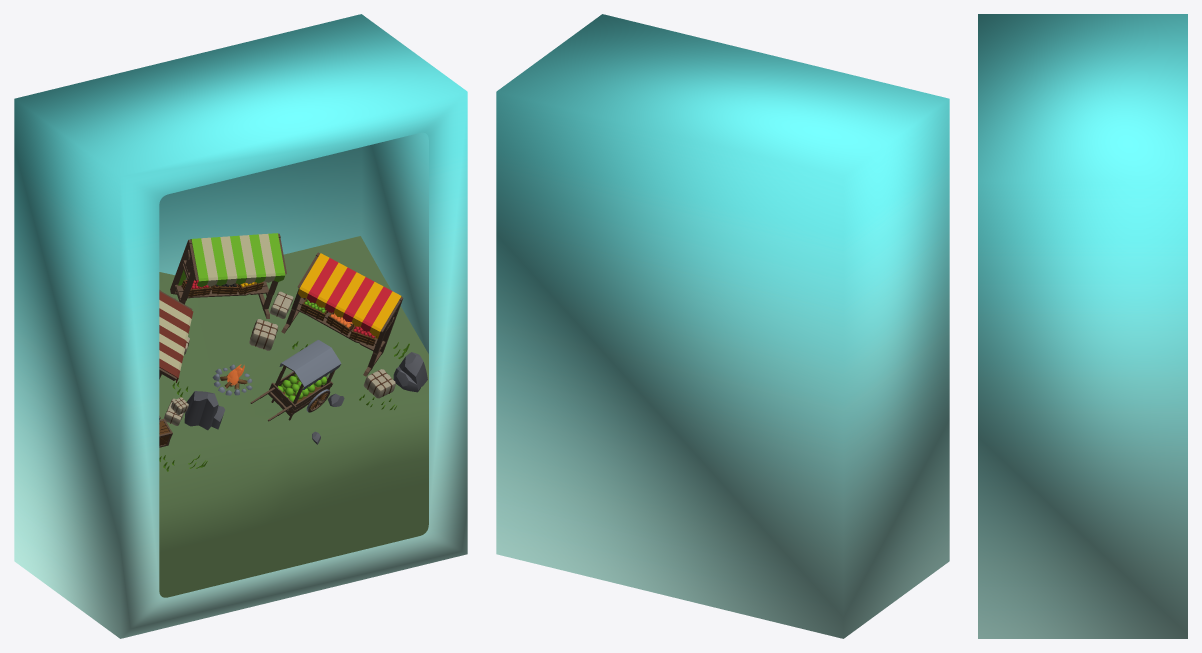
Rendered from 4_Market.gltf.
3 renders of one model, left to right at view 1: azimuth 30°, elevation 25°; view 2: azimuth 150°, elevation 25°; view 3: azimuth 270°, elevation 25°, orthographic.
Parts seen in each view (by area): view 1: 4_Market_bg, 4_Market; view 2: 4_Market_bg; view 3: 4_Market_bg.
Part boxes in pixels (box(x1,y1,x2,y2)): 4_Market_bg: box(14, 14, 467, 638); 4_Market: box(159, 233, 428, 597); 4_Market_bg: box(496, 14, 949, 638); 4_Market_bg: box(978, 14, 1187, 638).
Bounding box in the file's own units: 2.76 × 3.51 × 1.46.
Materials: 2 (2 with a texture image).
